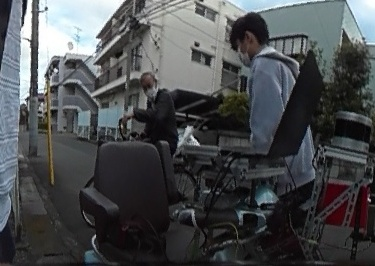person: (226, 11, 317, 247), (130, 68, 178, 144)
